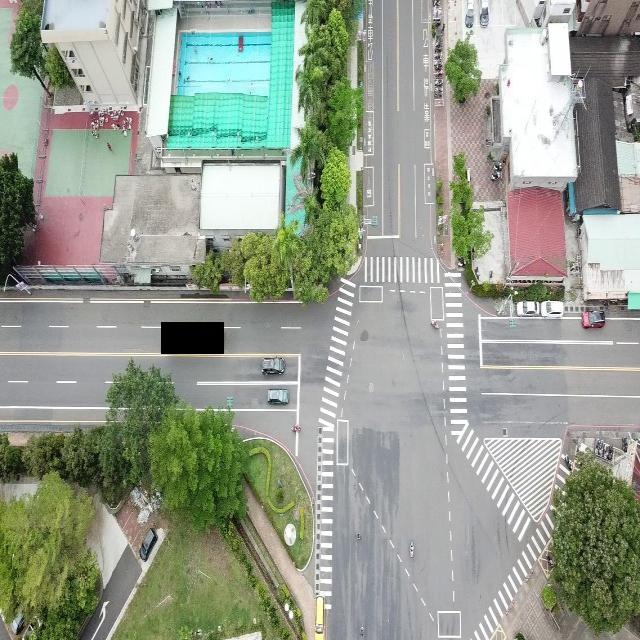bike: (428, 316, 442, 334), (290, 418, 304, 436), (358, 618, 366, 638), (409, 538, 416, 560)
car: (261, 355, 287, 377), (580, 310, 608, 330), (140, 527, 157, 559), (266, 385, 292, 405), (515, 300, 540, 318), (540, 299, 565, 317)
